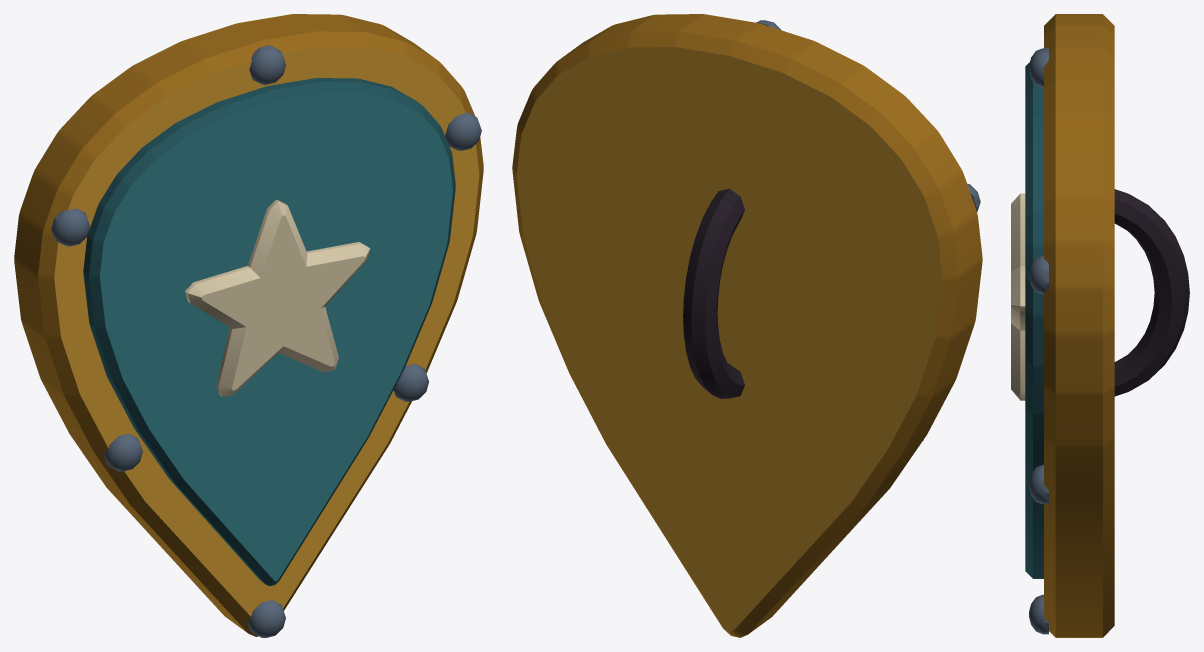
Rendered from KiteShield_08.glb.
3 renders of one model, left to right at view 1: azimuth 30°, elevation 25°; view 2: azimuth 150°, elevation 25°; view 3: azimuth 270°, elevation 25°, orthographic.
Visible parts, largest first — view 1: KiteShield_08; view 2: KiteShield_08; view 3: KiteShield_08.
Boxes of the visible parts, <box> form: KiteShield_08: <box>14,14,483,637</box>; KiteShield_08: <box>512,14,982,637</box>; KiteShield_08: <box>1011,14,1189,637</box>.
Bounding box in the file's own units: 2.16 × 2.76 × 0.76.
